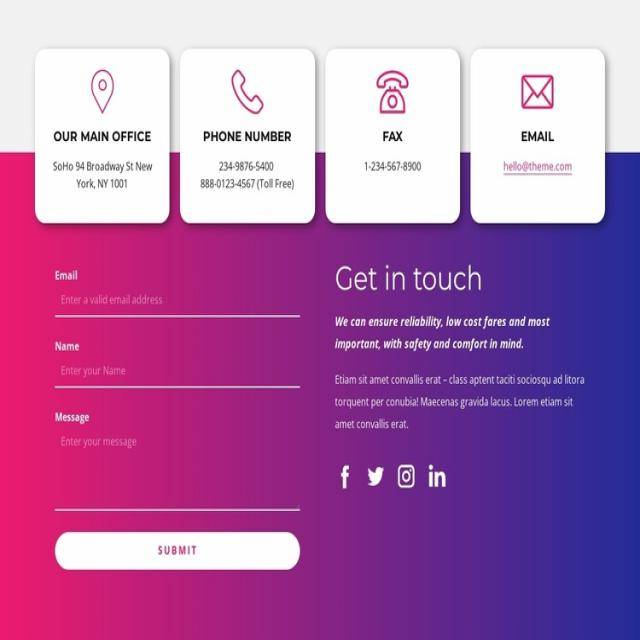buttons: (181, 51, 313, 225), (36, 52, 170, 220), (474, 52, 601, 224), (329, 55, 457, 222), (57, 531, 298, 574), (396, 464, 417, 488), (335, 466, 353, 492), (368, 466, 386, 489), (429, 467, 446, 490)
input-fields: (58, 432, 299, 512), (55, 272, 304, 324), (57, 342, 301, 394)
text: (335, 377, 587, 426), (338, 313, 551, 350), (335, 265, 484, 296)
